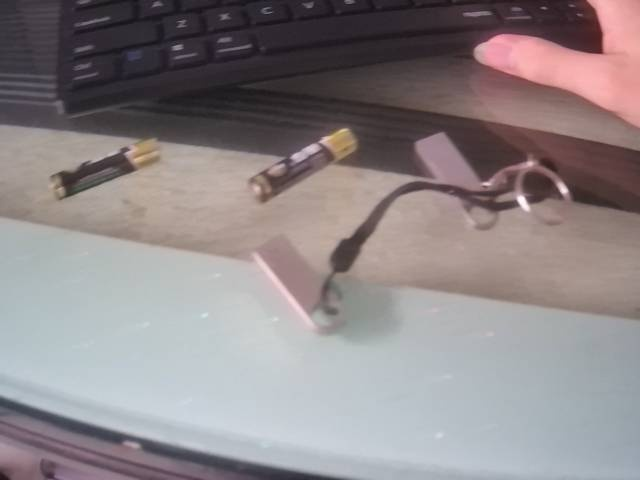U-disk: (401, 123, 574, 238), (235, 228, 377, 338)
battery: (246, 125, 367, 208), (44, 133, 165, 203)
